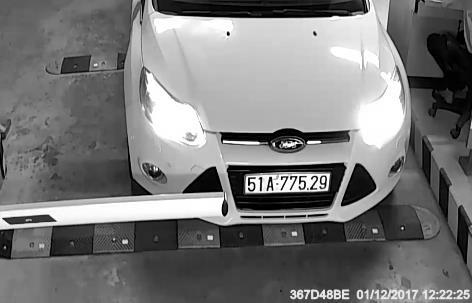License-plate: (241, 163, 337, 206)
